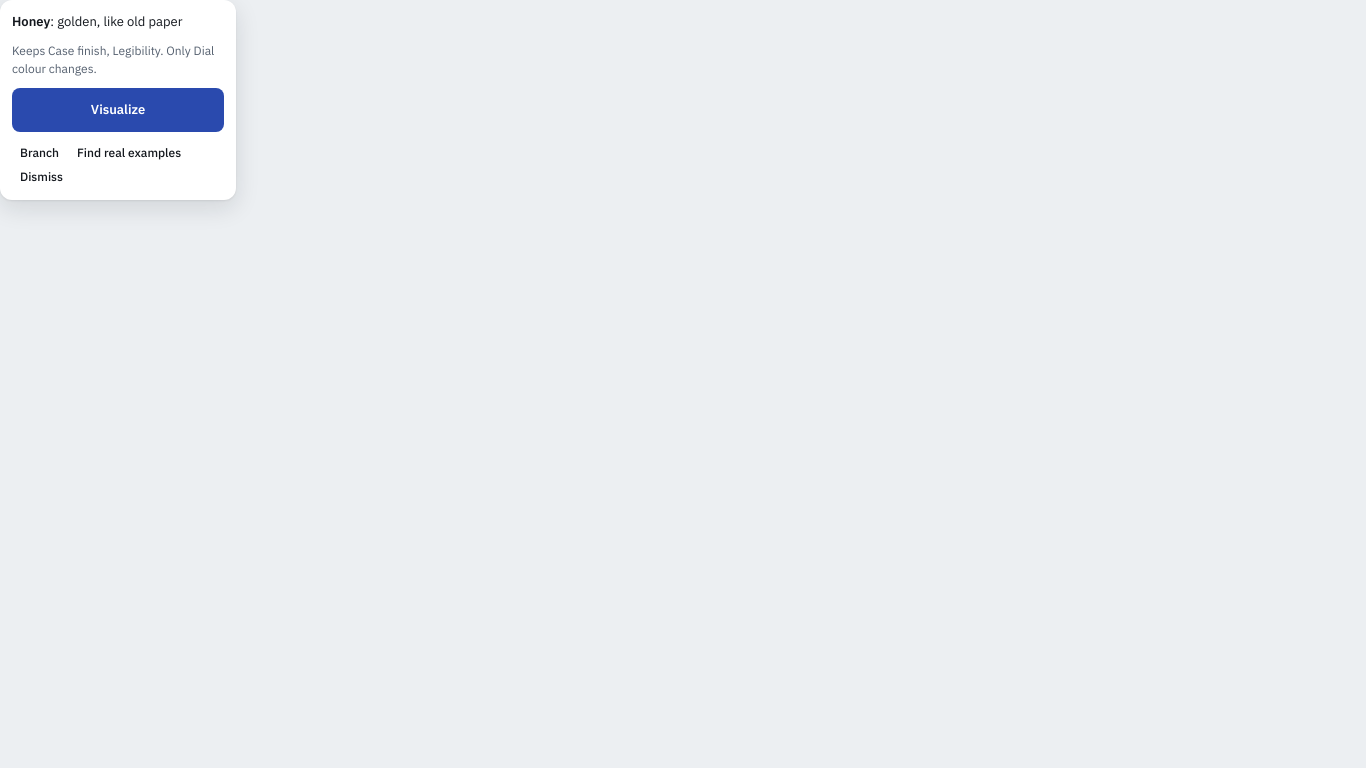
Scenario: AxisPopover › a visualize already under way (409 VISUALIZE_IN_PROGRESS) stays visualizing with no error
Click the button "Visualize" at {"x": 118, "y": 110}, box [12, 88, 224, 132]
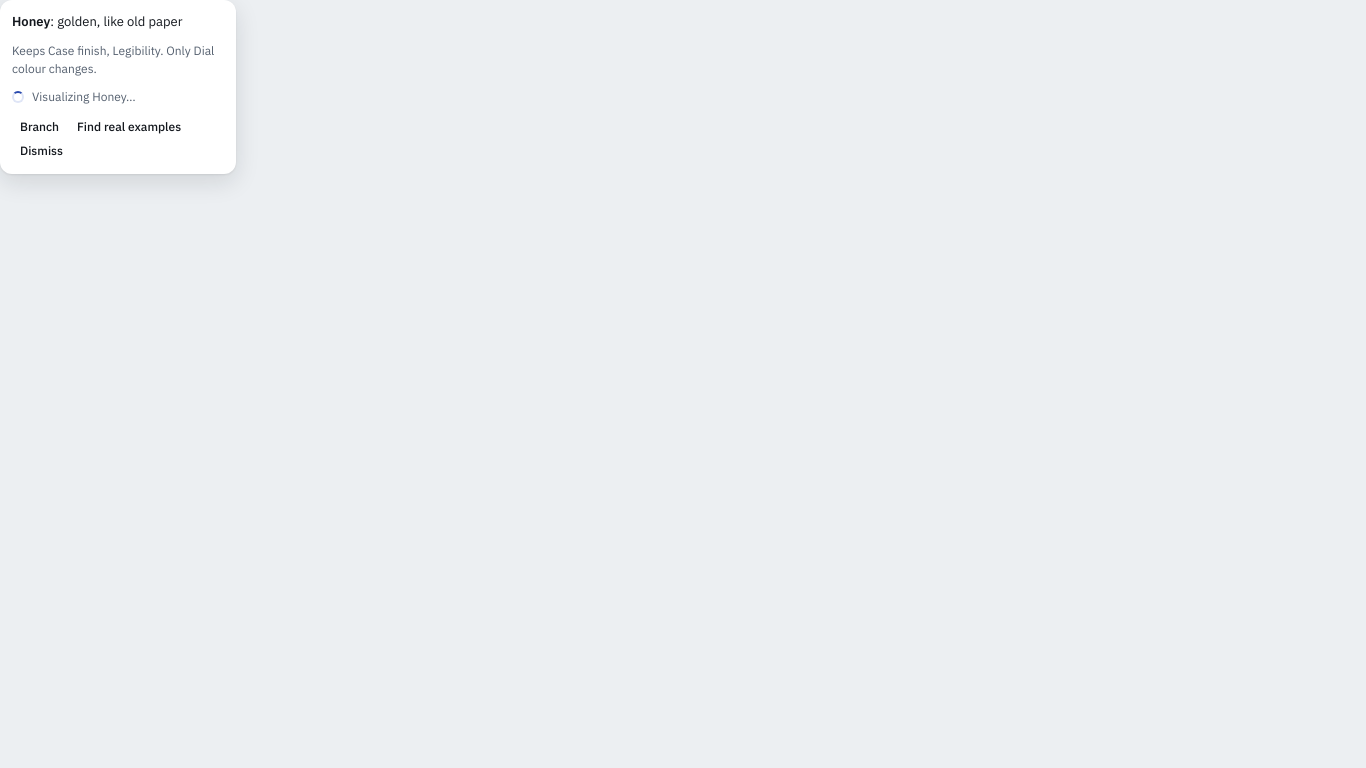
Check: the message is not shown
Check: the message shows "Visualizing Honey", box [12, 88, 136, 104]
